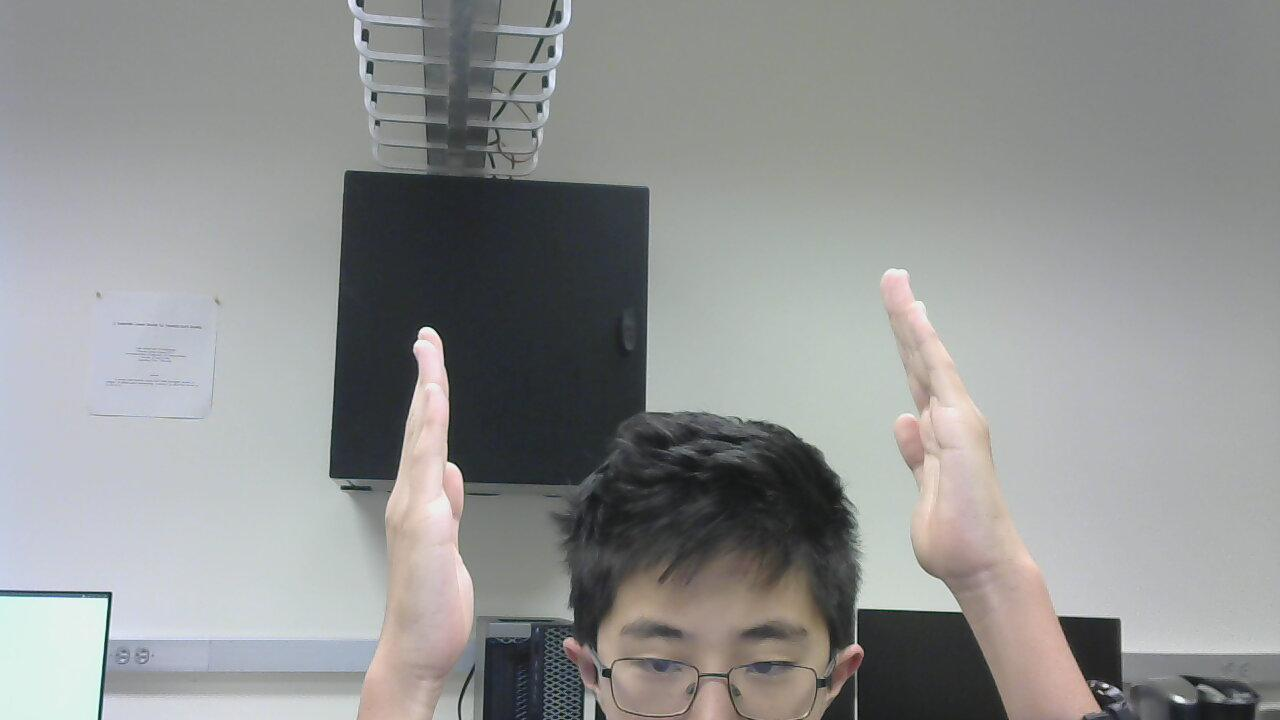hands: (869, 262, 1046, 615), (369, 322, 498, 680)
